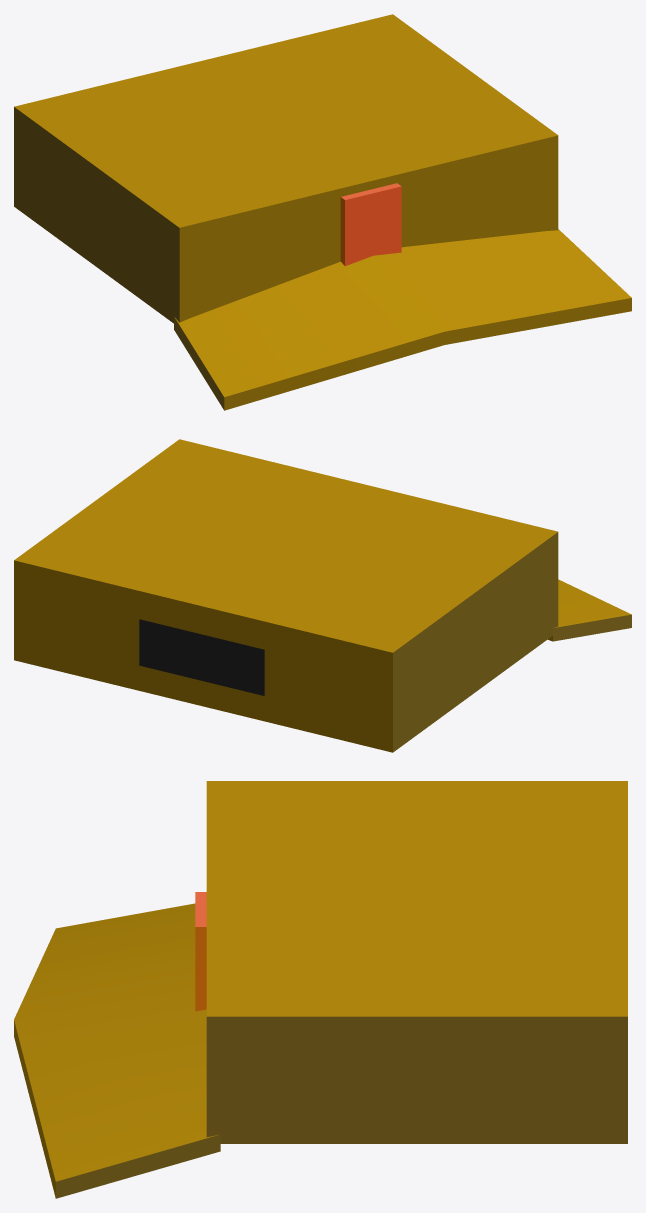
Rendered from Item_HatBaseball03.FBX.
The picture shows the model from 3 angles, top to bottom: view 1: azimuth 30°, elevation 25°; view 2: azimuth 150°, elevation 25°; view 3: azimuth 270°, elevation 25°; orthographic projection. The views are drawn at different scales.
Parts seen in each view (by area): view 1: Item_HatBaseball03; view 2: Item_HatBaseball03; view 3: Item_HatBaseball03.
Part boxes in pixels (<box>): Item_HatBaseball03: <box>14,14,631,410</box>; Item_HatBaseball03: <box>14,439,631,752</box>; Item_HatBaseball03: <box>14,781,627,1198</box>.
Size of the model in its own units: 44.9 by 14.32 by 46.28.
